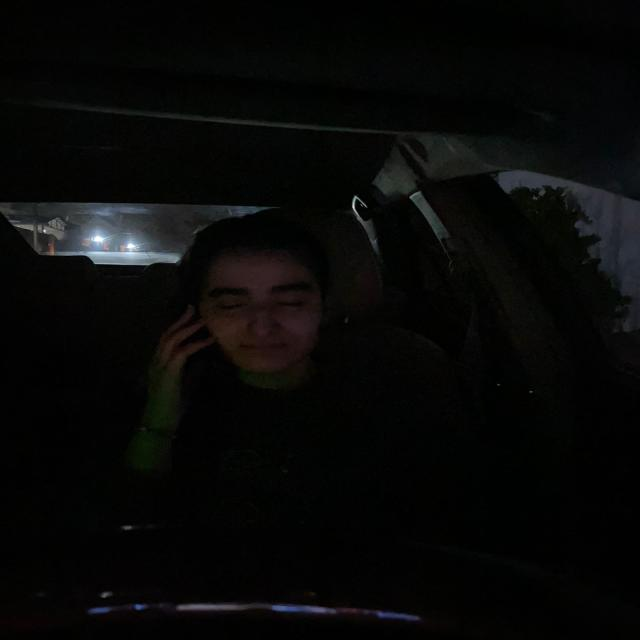phone: (179, 301, 210, 383)
